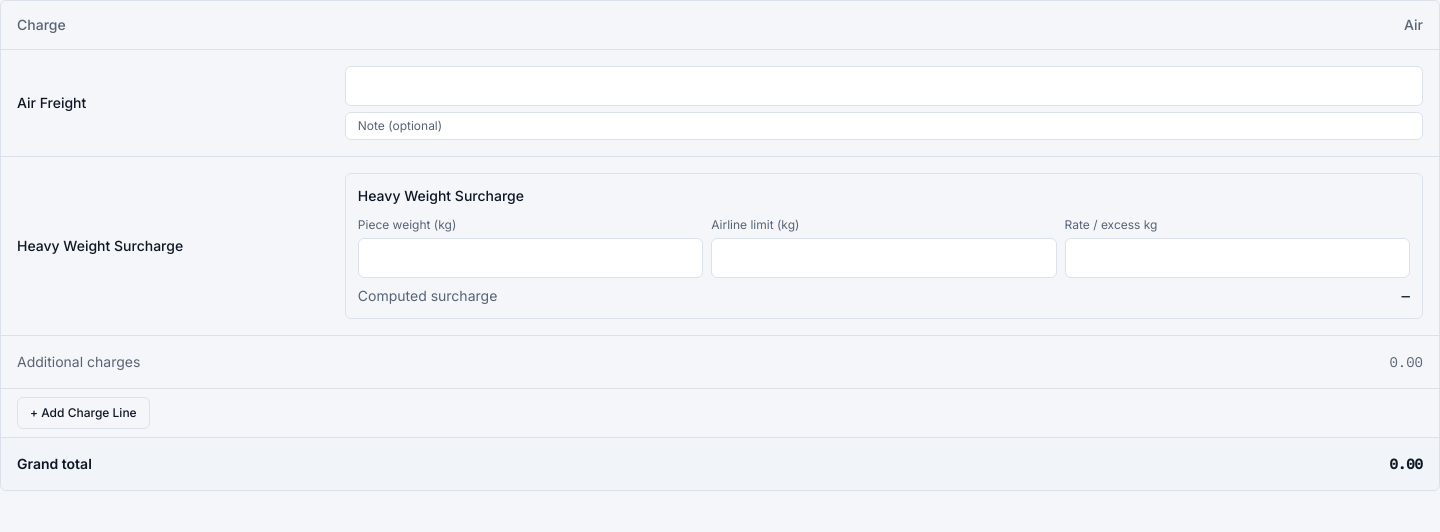
Test: ChargeMatrix — Air (single column) › passes the leg's total cargo gross weight down to HeavyWeightCalcRow (design D4/#11)
Type "1500" into the number field named "Piece weight (kg) for Heavy Weight Surcharge" at (530, 258), box left=358, top=238, right=703, bottom=278
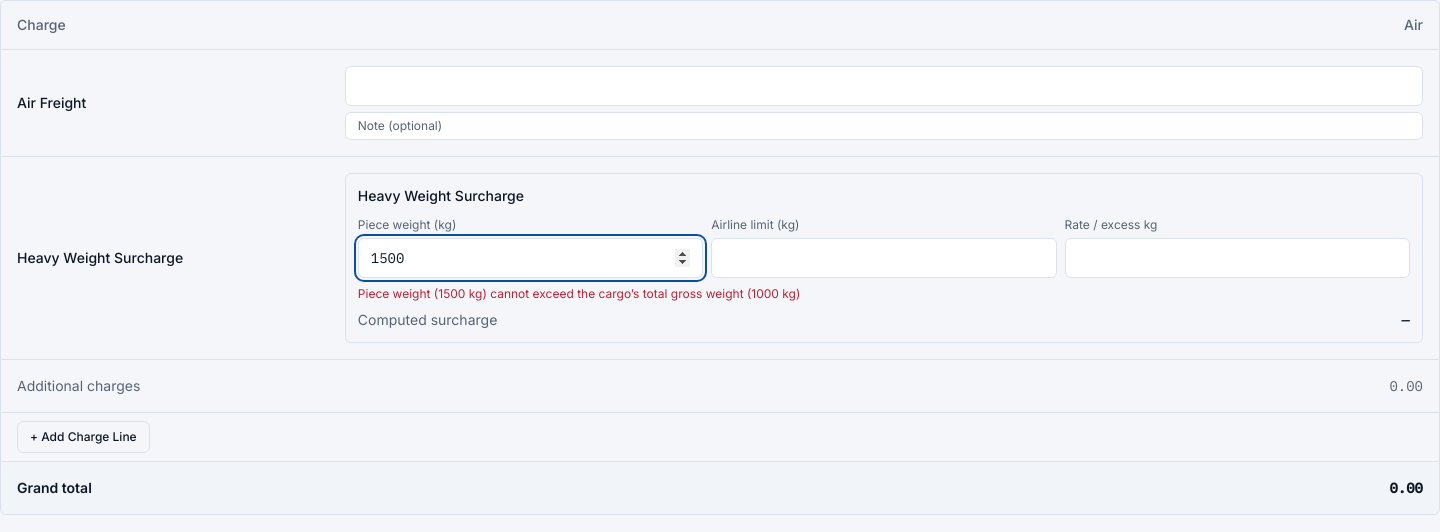
Result: the message shows "1500" at left=438, top=286, right=465, bottom=300
Result: the message shows "1000" at left=751, top=286, right=779, bottom=300
